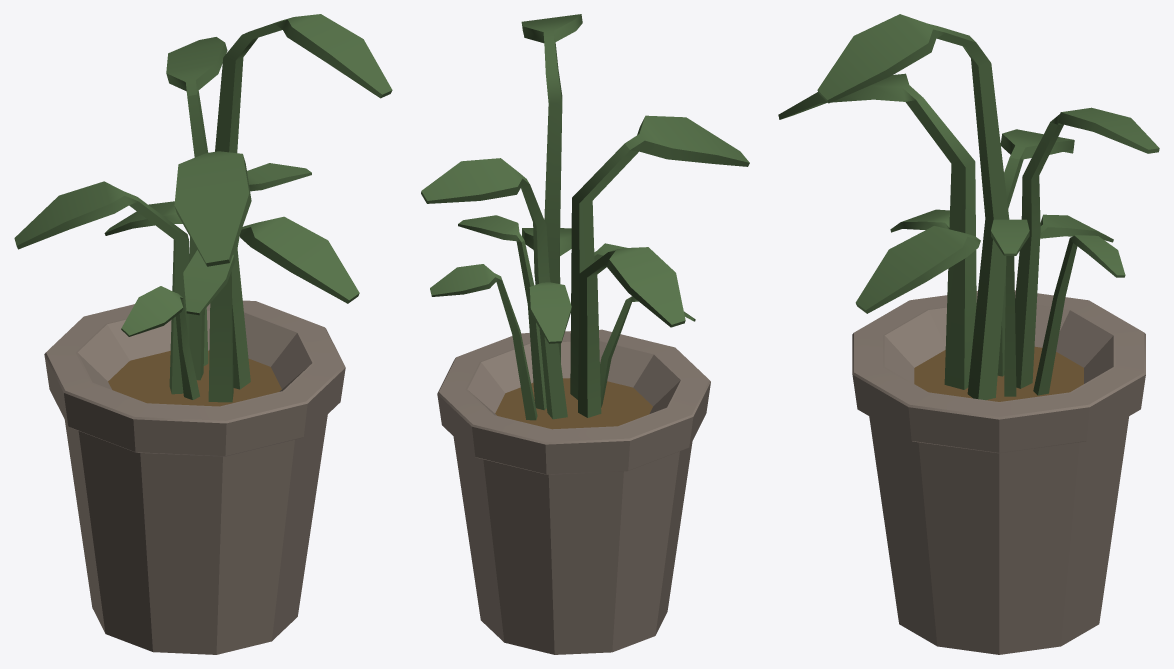
The model's file is model_plant_01.fbx.
The picture shows the model from 3 angles, left to right: view 1: azimuth 30°, elevation 25°; view 2: azimuth 150°, elevation 25°; view 3: azimuth 270°, elevation 25°; orthographic projection. The views are drawn at different scales.
Visible parts, largest first — view 1: model_plant_01; view 2: model_plant_01; view 3: model_plant_01.
Part boxes in pixels (box(x1,y1,x2,y2)): model_plant_01: box(14, 14, 392, 654); model_plant_01: box(421, 14, 749, 654); model_plant_01: box(778, 14, 1159, 654).
Bounding box in the file's own units: 48.75 × 101 × 56.1.
Materials: 1 (1 with a texture image).
